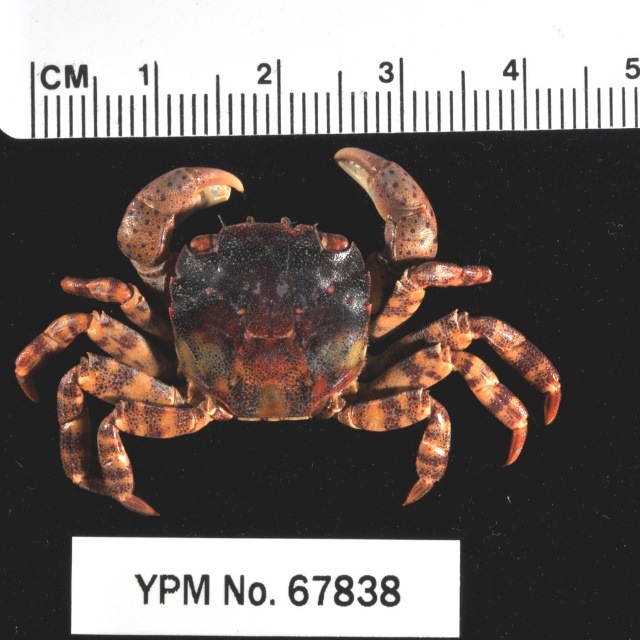Crab: (7, 147, 560, 517)
